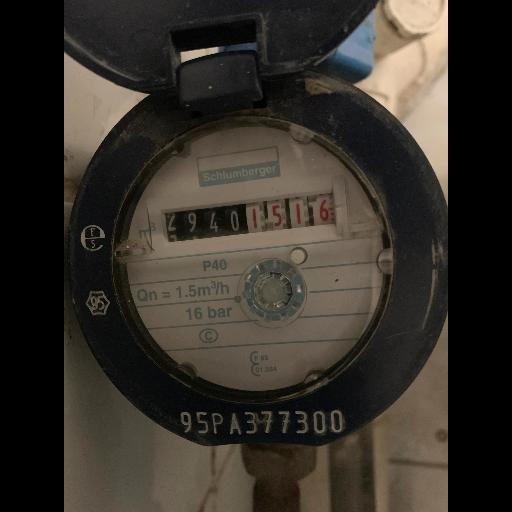0: (225, 203, 245, 235)
1: (288, 196, 309, 229), (244, 201, 264, 234)
2: (164, 211, 183, 243)
4: (204, 206, 225, 239)
5: (265, 199, 287, 232)
6: (311, 193, 336, 226)
9: (182, 209, 205, 242)
border_water_meter_number: (161, 190, 338, 245)
